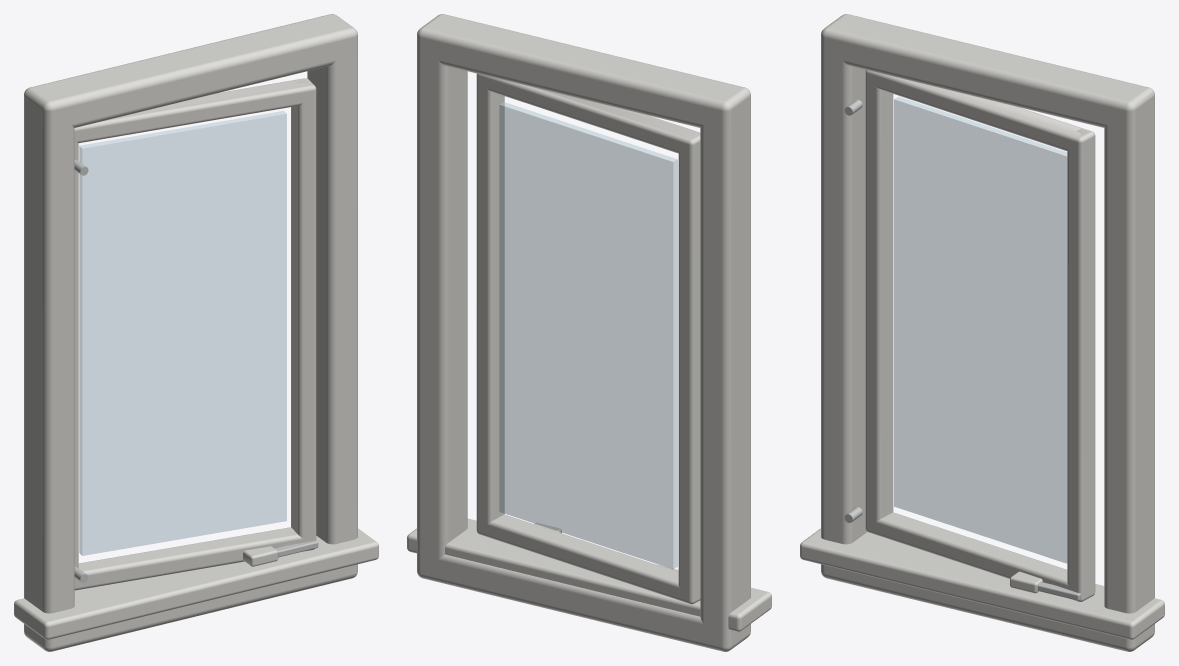
File: modern-tall-casement-window.optimized.glb
3 views of the same model, side by side, from view 1: azimuth 30°, elevation 25°; view 2: azimuth 150°, elevation 25°; view 3: azimuth 330°, elevation 25° (orthographic).
Visible parts, largest first — view 1: outer frame top rail, casement insulated glass, folding crank handle; view 2: outer frame top rail, casement insulated glass; view 3: outer frame top rail, casement insulated glass, folding crank handle.
Boxes of the visible parts, x1,y1,x2,y2 form: outer frame top rail: (14, 14, 378, 651); casement insulated glass: (79, 111, 286, 555); folding crank handle: (74, 159, 318, 582); outer frame top rail: (407, 14, 771, 651); casement insulated glass: (499, 102, 677, 568); outer frame top rail: (800, 14, 1164, 651); casement insulated glass: (894, 97, 1067, 563); folding crank handle: (844, 99, 1081, 600).
Size of the model in its own units: 0.9799 by 1.54 by 0.1886.
